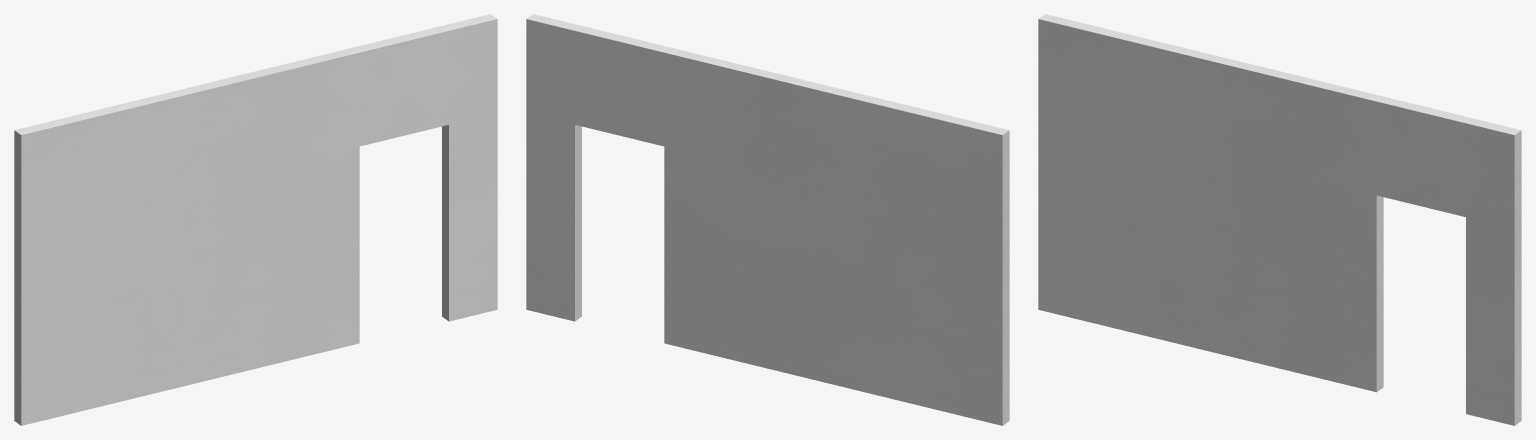
File: wall_door.glb
3 renders of one model, left to right at view 1: azimuth 30°, elevation 25°; view 2: azimuth 150°, elevation 25°; view 3: azimuth 330°, elevation 25°, orthographic.
Visible parts, largest first — view 1: Door wall; view 2: Door wall; view 3: Door wall.
Part boxes in pixels (x1,y1,x2,y2): Door wall: [14, 14, 497, 425]; Door wall: [526, 14, 1009, 425]; Door wall: [1038, 14, 1521, 425].
Size of the model in its own units: 4.8 by 2.8 by 0.12.
Materials: 1 (1 with a texture image).
